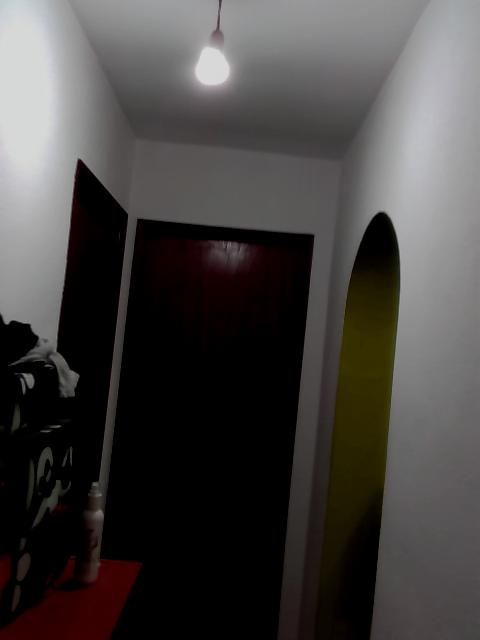closed_door: (97, 217, 313, 638)
